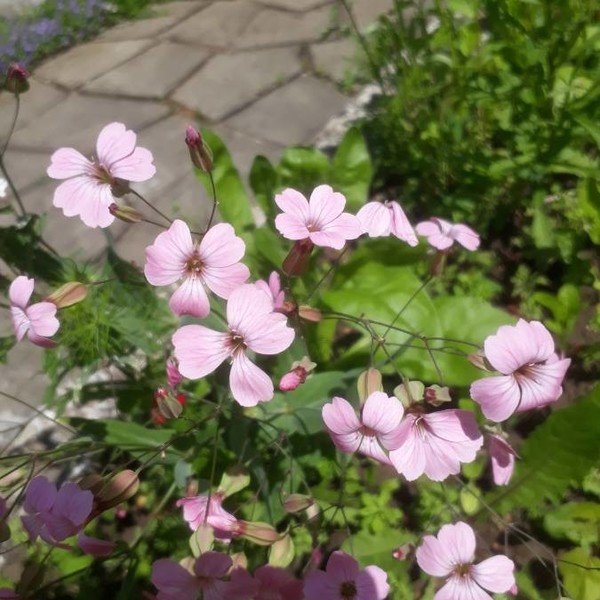obstacle: (61, 118, 545, 506), (49, 468, 516, 586), (385, 15, 562, 239)
